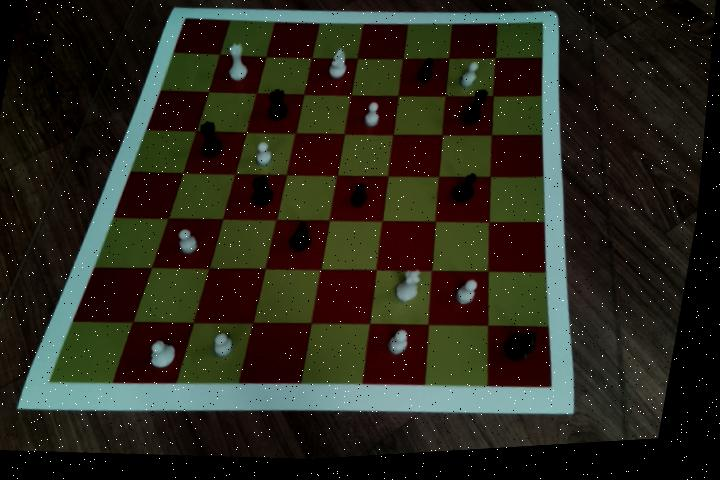chessboard-detect: (56, 20, 559, 396)
